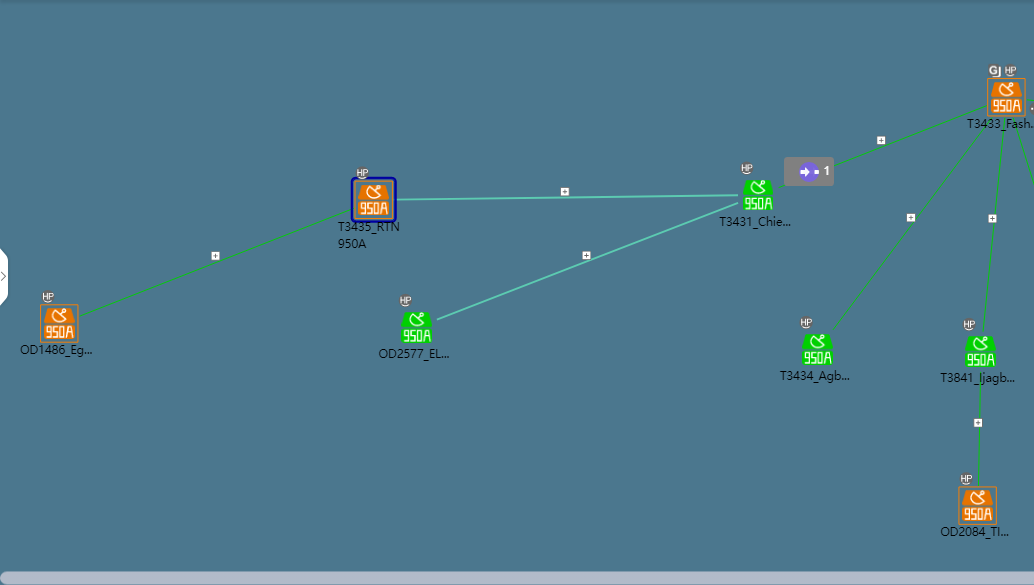Link_Blue: (436, 199, 735, 318), (391, 192, 729, 200)
Link_Green: (830, 115, 997, 333), (81, 205, 349, 320), (821, 102, 990, 178), (979, 115, 1010, 331), (1011, 123, 1032, 184), (973, 373, 981, 486)
RTN_Green: (966, 335, 997, 372), (740, 179, 777, 208), (404, 315, 435, 346), (805, 335, 835, 365)
RTN_Orange: (42, 309, 79, 346), (960, 490, 995, 527), (992, 82, 1023, 120), (352, 186, 389, 217)
